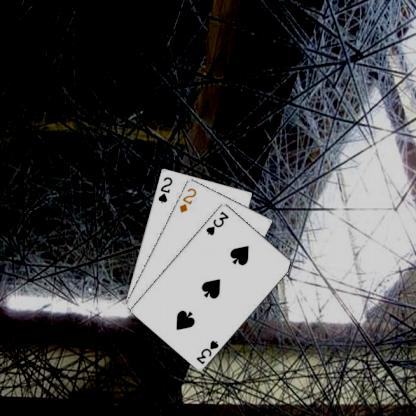2D: (177, 185, 198, 214)
2S: (155, 174, 174, 204)
3S: (193, 337, 220, 365), (203, 209, 230, 236)
